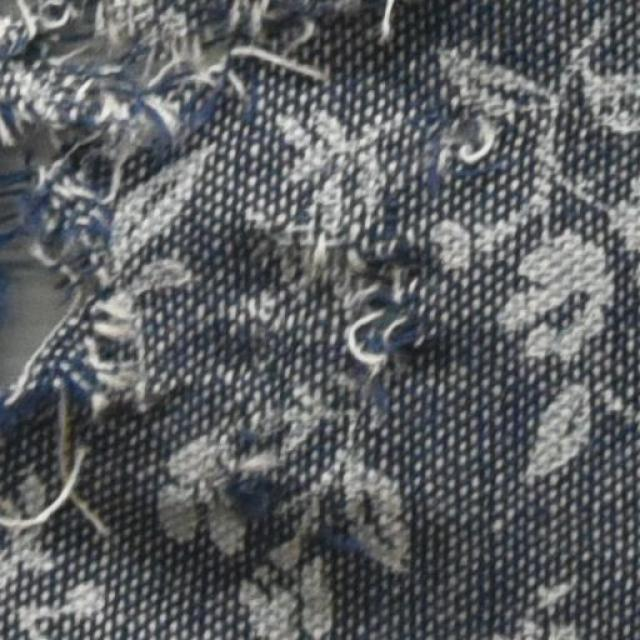Hole: (8, 259, 66, 383)
Snag: (0, 0, 398, 149), (328, 222, 441, 364), (5, 322, 125, 432)
